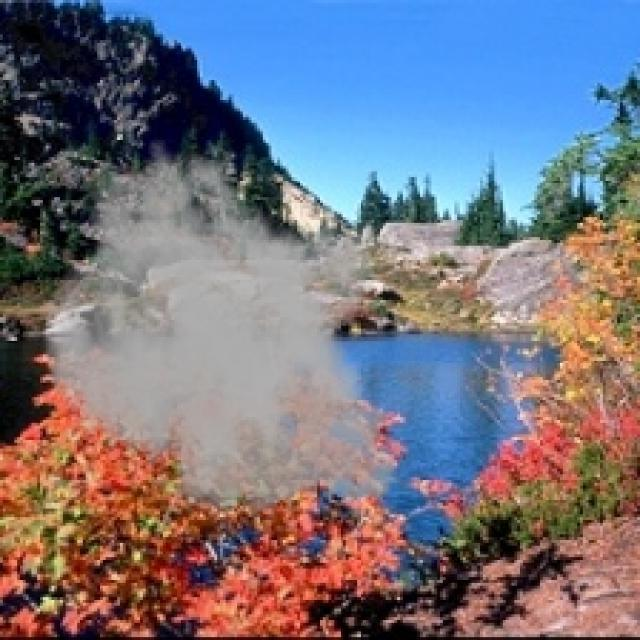Smoke: (42, 137, 414, 526)
